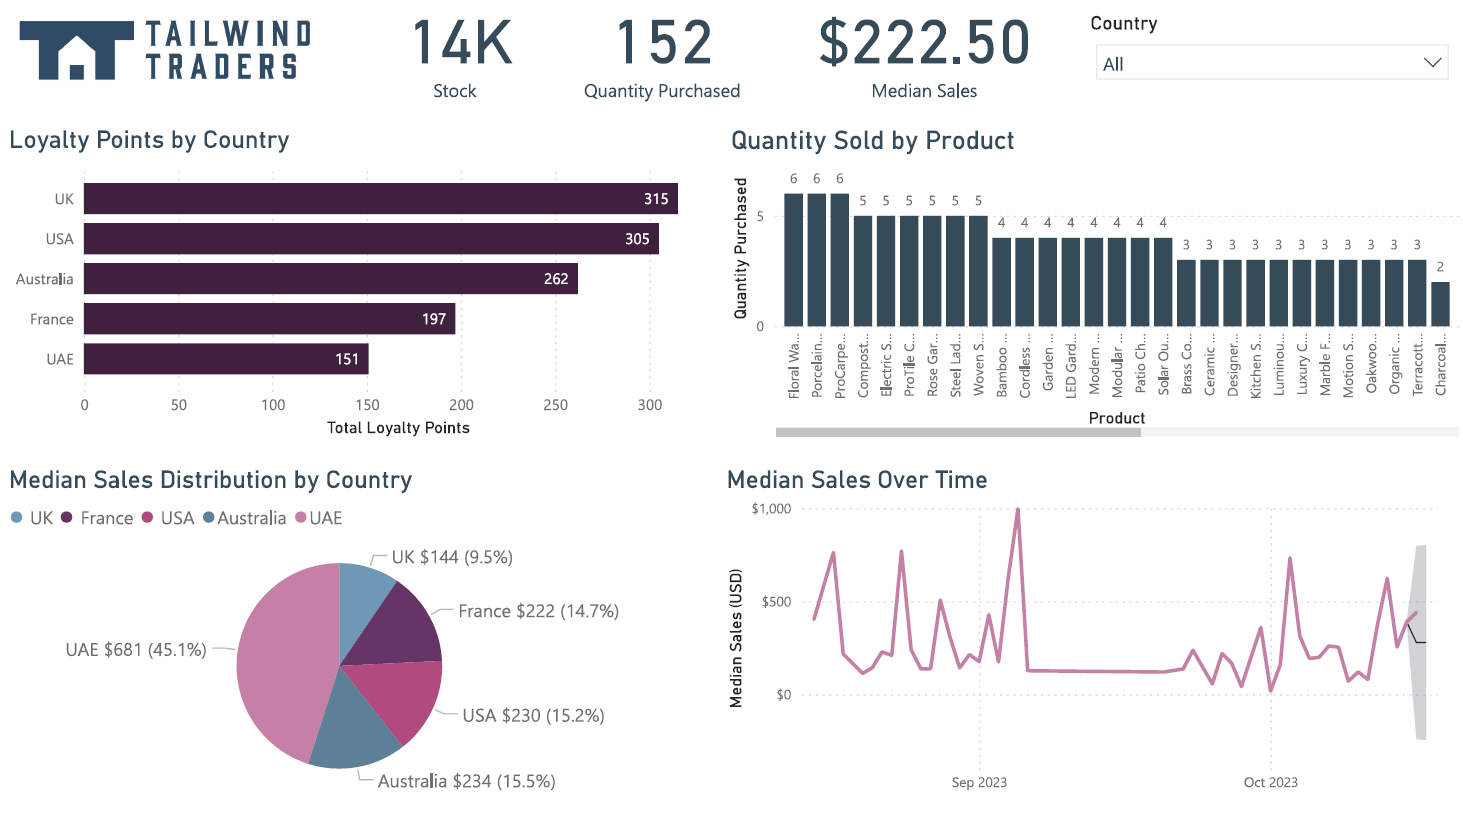

What the dashboard file says about the page in this screenshot:
{"tool":"powerbi","page":{"name":"Sales Overview","canvas":[1280,720],"ordinal":0},"visuals":[{"type":"card","fields":{"Values":["Sales in USD.Median Sales"]},"box":[693,0,234,109],"z":0},{"type":"clusteredBarChart","title":"Loyalty Points by Country","fields":{"Category":["Countries.Country"],"Y":["Sum(Sales in USD. Loyalty Points)"]},"box":[0,123.8,640,278.8],"z":1000},{"type":"clusteredColumnChart","title":"Quantity Sold by Product","fields":{"Category":["Sales in USD.Product Name"],"Y":["Sum(Sales in USD.Quantity Purchased)"]},"box":[640,123.8,640,278.8],"z":2000},{"type":"pieChart","title":"Median Sales Distribution by Country","fields":{"Category":["Countries.Country"],"Y":["Sales in USD.Median Sales"]},"box":[0,423,591,297],"z":3000},{"type":"lineChart","title":"Median Sales Over Time","fields":{"Y":["Sales in USD.Median Sales"],"Category":["Calendar.Date"]},"box":[631,423,649,297],"z":4000},{"type":"card","fields":{"Values":["Sum(Sales in USD. Stock  )"]},"box":[310,0,183,109],"z":5000},{"type":"card","fields":{"Values":["Sum(Sales in USD.Quantity Purchased)"]},"box":[500,0,159,109],"z":6000},{"type":"slicer","title":"Country","fields":{"Values":["Sales in USD.Country Name"]},"box":[956,24,320,85],"z":7000},{"type":"image","box":[0,10,284,96],"z":7001}]}

Visuals, with their boxes in screenshot pixels (x1, y1, x2, y2), scaled from the page's 1280x720 canvas onto the 1463x832 screenshot:
card - Sales in USD.Median Sales: detection(792, 0, 1060, 126)
"Loyalty Points by Country" clusteredBarChart: detection(0, 143, 732, 465)
"Quantity Sold by Product" clusteredColumnChart: detection(732, 143, 1462, 465)
"Median Sales Distribution by Country" pieChart: detection(0, 489, 675, 831)
"Median Sales Over Time" lineChart: detection(721, 489, 1462, 831)
card - Sum(Sales in USD. Stock  ): detection(354, 0, 563, 126)
card - Sum(Sales in USD.Quantity Purchased): detection(571, 0, 753, 126)
"Country" slicer: detection(1093, 28, 1458, 126)
image: detection(0, 12, 325, 122)
